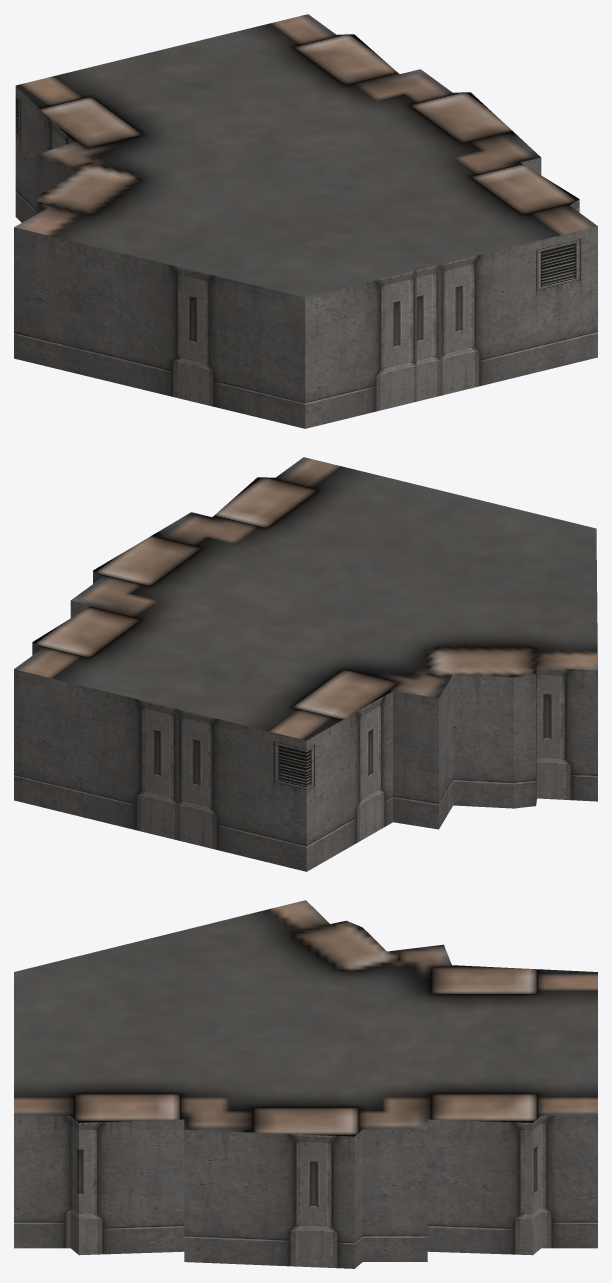
File: building_hard_25.glb
3 renders of one model, top to bottom at view 1: azimuth 30°, elevation 25°; view 2: azimuth 150°, elevation 25°; view 3: azimuth 270°, elevation 25°, orthographic.
Parts seen in each view (by area): view 1: buildings/saxarba/building_hard/building_hard_25; view 2: buildings/saxarba/building_hard/building_hard_25; view 3: buildings/saxarba/building_hard/building_hard_25.
Boxes of the visible parts, x1,y1,x2,y2 form: buildings/saxarba/building_hard/building_hard_25: (14, 14, 597, 428); buildings/saxarba/building_hard/building_hard_25: (14, 457, 597, 871); buildings/saxarba/building_hard/building_hard_25: (14, 900, 597, 1268).
Bounding box in the file's own units: 69 × 18 × 72.
